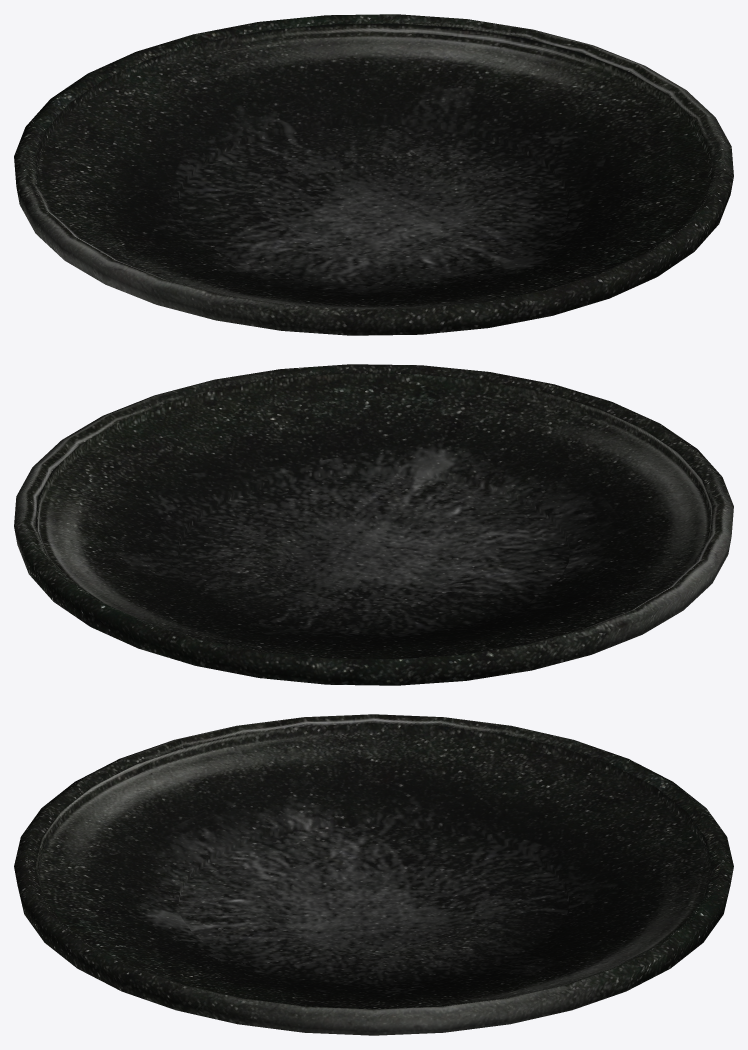
The model's file is platoNegro.glb.
3 renders of one model, top to bottom at view 1: azimuth 30°, elevation 25°; view 2: azimuth 150°, elevation 25°; view 3: azimuth 270°, elevation 25°, orthographic.
Parts seen in each view (by area): view 1: Circle.003; view 2: Circle.003; view 3: Circle.003.
Boxes of the visible parts, <box> form: Circle.003: <box>14,14,733,335</box>; Circle.003: <box>14,364,733,685</box>; Circle.003: <box>14,714,733,1035</box>.
Size of the model in its own units: 0.9796 by 0.0765 by 0.9796.
1 material, 1 textured.
